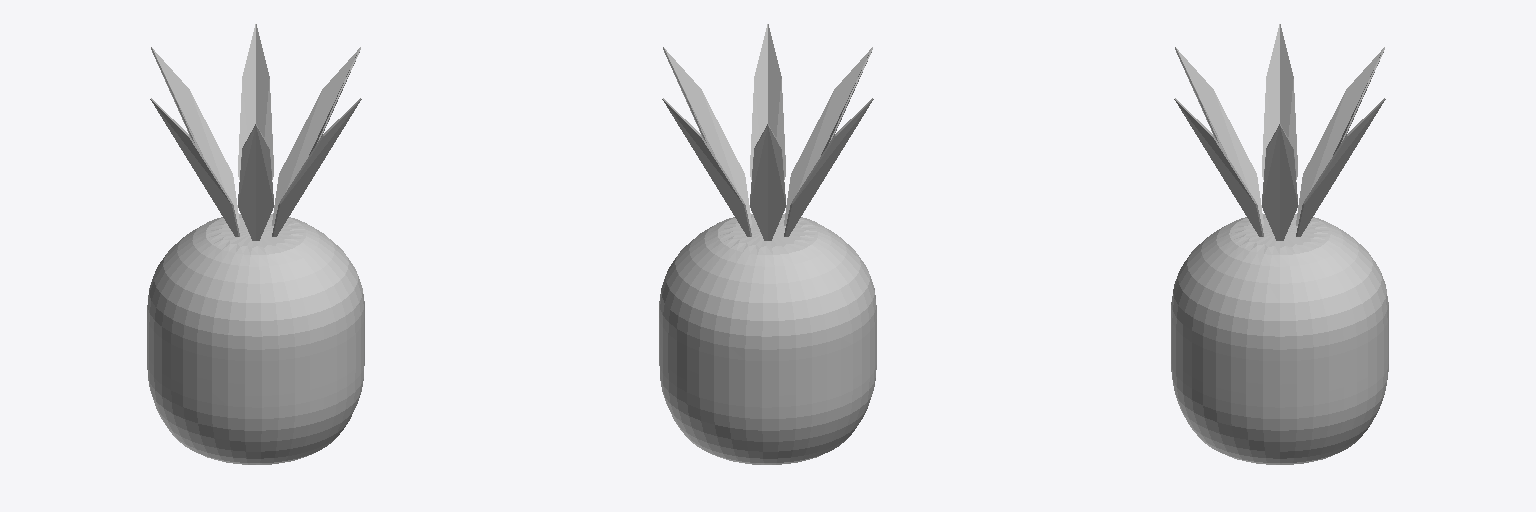
Rendered from pineapple.obj.
The picture shows the model from 3 angles: view 1: azimuth 30°, elevation 25°; view 2: azimuth 150°, elevation 25°; view 3: azimuth 270°, elevation 25°; orthographic projection.
Visible parts, largest first — view 1: Cylinder, Cube.005, Cube.002, Cube.001, Cube.003, Cube, Cube.004; view 2: Cylinder, Cube.001, Cube.004, Cube.003, Cube.005, Cube, Cube.002; view 3: Cylinder, Cube.003, Cube, Cube.001, Cube.005, Cube.002, Cube.004.
Boxes of the visible parts, x1,y1,x2,y2 form: Cylinder: [147, 214, 364, 464]; Cube.005: [238, 124, 273, 240]; Cube.002: [238, 24, 273, 179]; Cube.001: [151, 47, 239, 225]; Cube.003: [272, 47, 360, 225]; Cube: [150, 98, 239, 236]; Cube.004: [272, 98, 361, 236]; Cylinder: [659, 214, 876, 464]; Cube.001: [750, 124, 785, 240]; Cube.004: [750, 24, 785, 179]; Cube.003: [663, 47, 751, 225]; Cube.005: [784, 47, 872, 225]; Cube: [784, 98, 873, 236]; Cube.002: [662, 98, 751, 236]; Cylinder: [1171, 214, 1388, 464]; Cube.003: [1262, 124, 1297, 240]; Cube: [1262, 24, 1297, 179]; Cube.001: [1296, 47, 1384, 225]; Cube.005: [1175, 47, 1263, 225]; Cube.002: [1296, 98, 1385, 236]; Cube.004: [1174, 98, 1263, 236].
Bounding box in the file's own units: 0.2204 × 0.3653 × 0.1967.